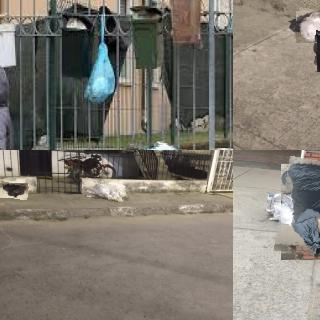Garbage: (277, 160, 320, 263), (81, 180, 130, 203), (295, 9, 320, 44), (0, 181, 28, 199)
